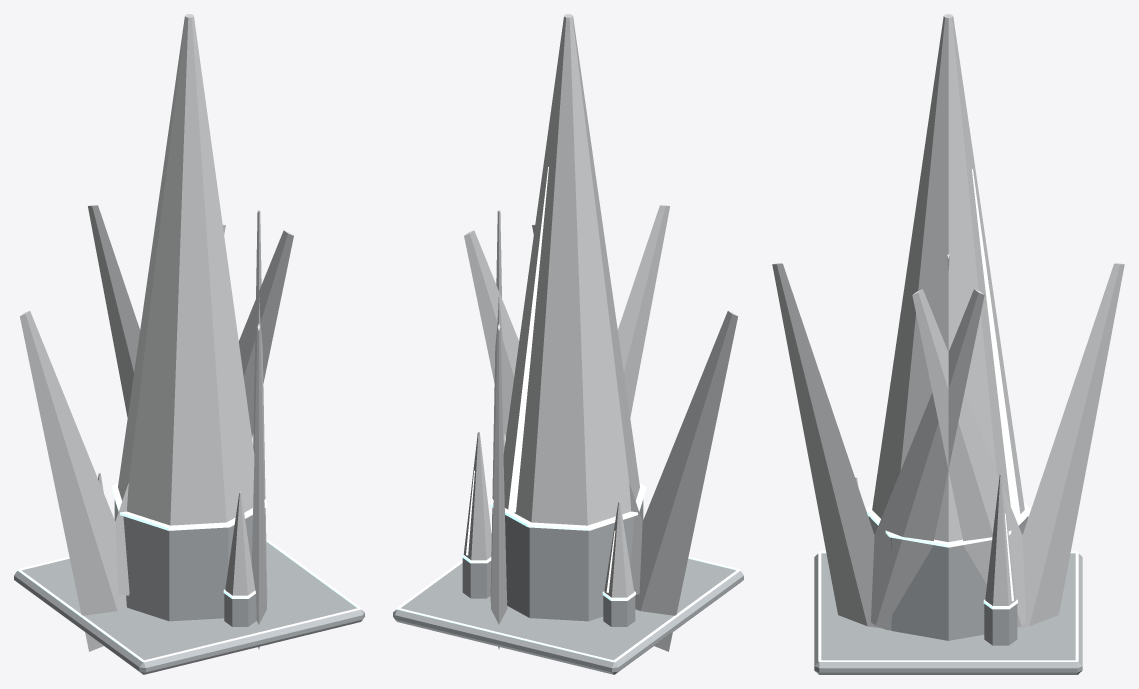
File: zone_high_1.glb
3 views of the same model, side by side, from view 1: azimuth 30°, elevation 25°; view 2: azimuth 150°, elevation 25°; view 3: azimuth 270°, elevation 25° (orthographic). The views are drawn at different scales.
Visible parts, largest first — view 1: zone_high_1, detail; view 2: zone_high_1, detail; view 3: zone_high_1, detail.
Boxes of the visible parts, x1,y1,x2,y2 form: zone_high_1: (14, 14, 364, 674); detail: (17, 539, 361, 662); zone_high_1: (393, 14, 743, 674); detail: (396, 557, 740, 662); zone_high_1: (772, 14, 1124, 674); detail: (818, 551, 1078, 661).
Bounding box in the file's own units: 34.46 × 71.3 × 36.16.
